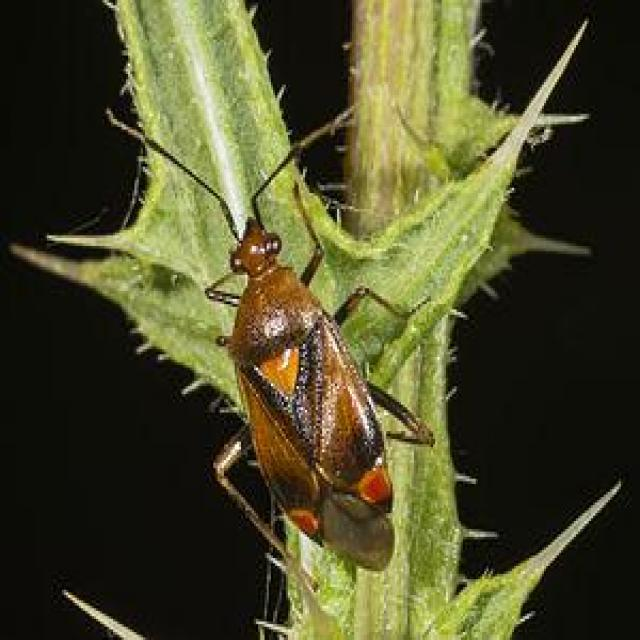Miridae-Adult-: (85, 87, 444, 576)
